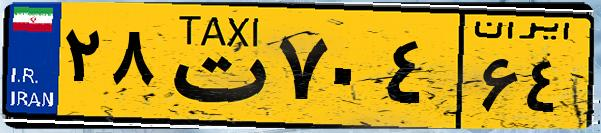0: (330, 28, 385, 110)
2: (57, 26, 110, 100)
4: (385, 28, 445, 110), (525, 38, 570, 115)
6: (475, 38, 525, 113)
7: (270, 28, 330, 110)
8: (110, 28, 158, 98)
ت: (158, 12, 270, 120)
